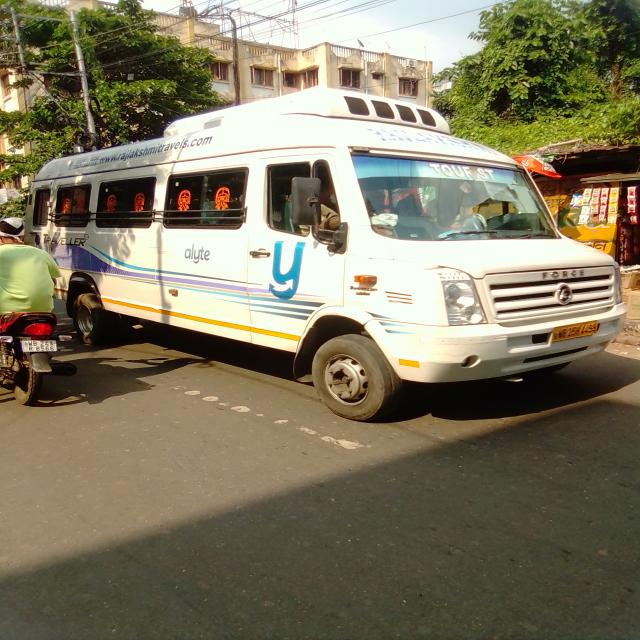Bus: (51, 90, 624, 412)
